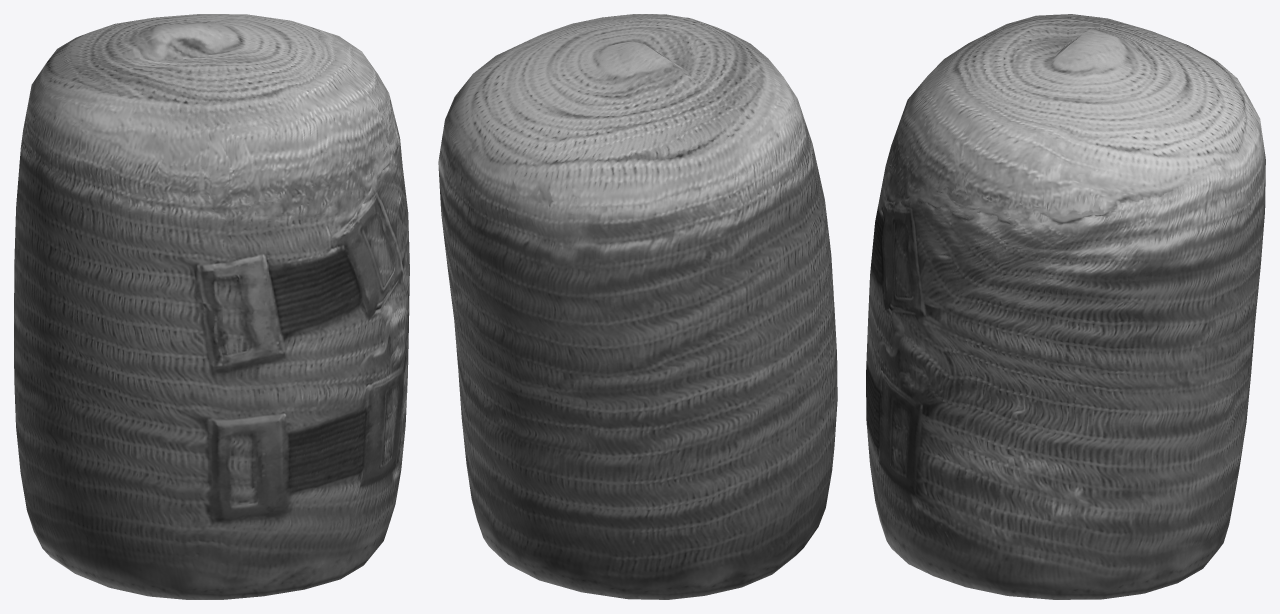
File: bandage.glb
3 views of the same model, side by side, from view 1: azimuth 30°, elevation 25°; view 2: azimuth 150°, elevation 25°; view 3: azimuth 270°, elevation 25° (orthographic).
Parts seen in each view (by area): view 1: Object_2; view 2: Object_2; view 3: Object_2.
Part boxes in pixels (left/top/right/bottom): Object_2: left=14, top=14, right=409, bottom=599; Object_2: left=438, top=14, right=837, bottom=599; Object_2: left=866, top=14, right=1265, bottom=599.
Bounding box in the file's own units: 54.48 × 76.25 × 55.47.
1 material, 1 textured.
